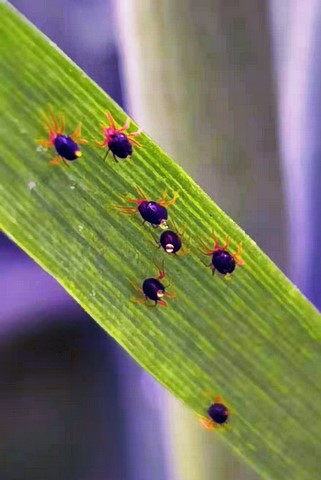Wheat Red Spider: (191, 232, 258, 285), (91, 109, 146, 170)
